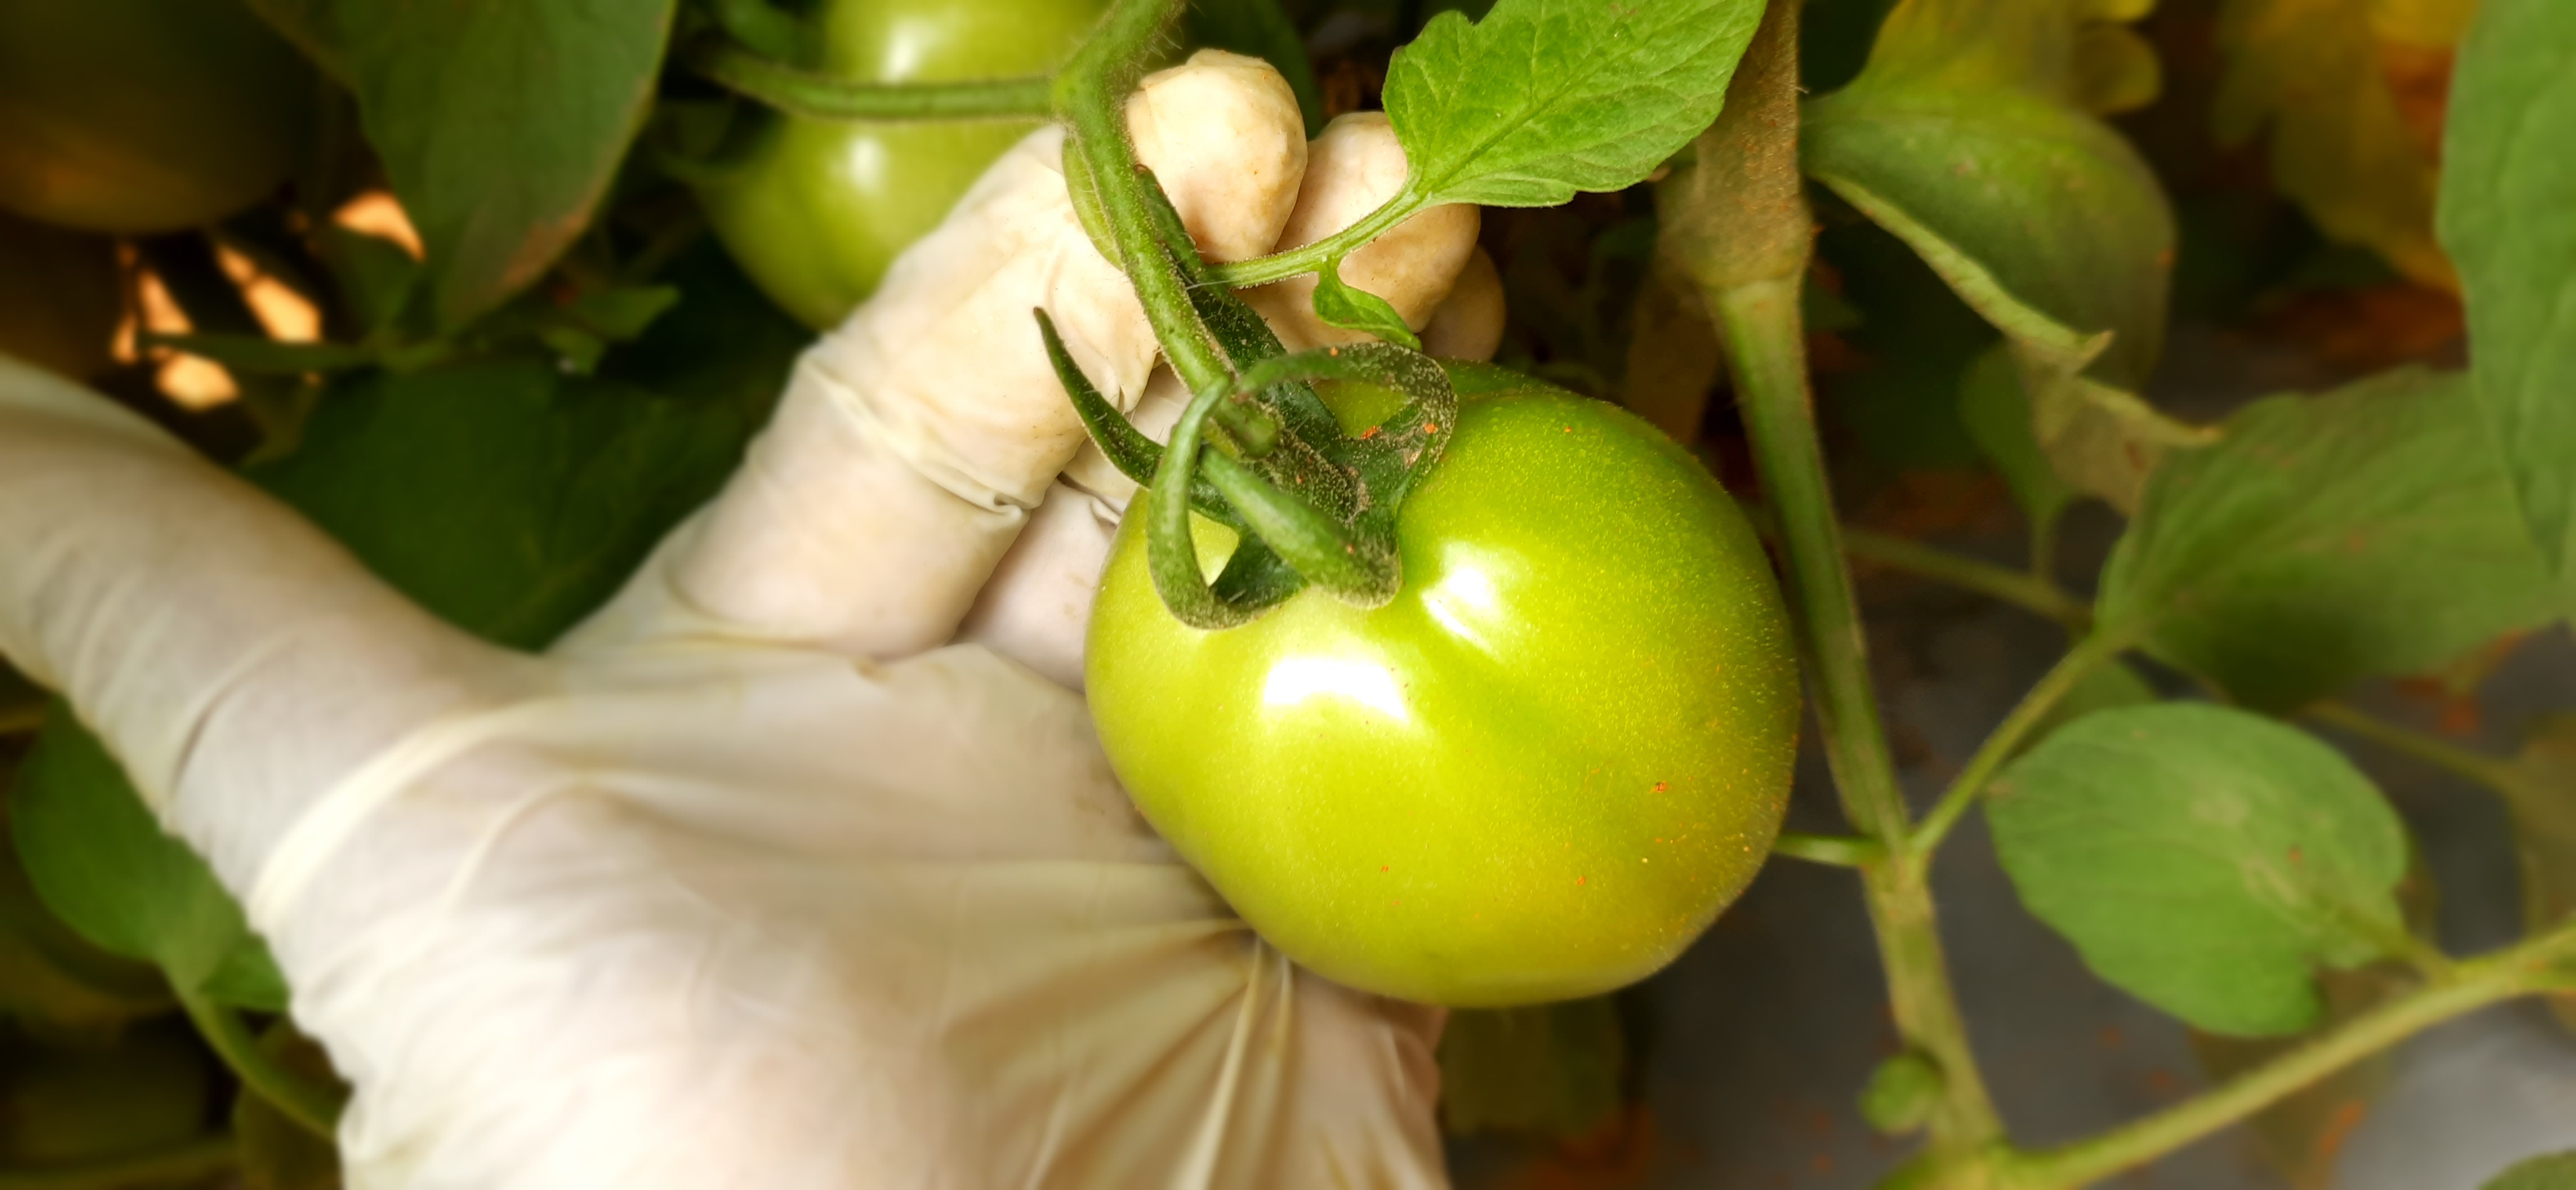raw_tomato: (1069, 304, 1865, 1034)
